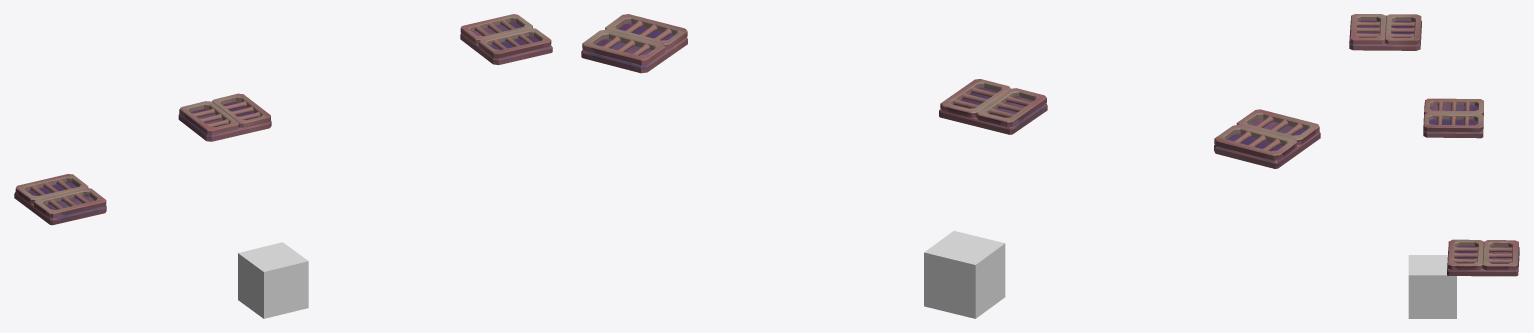
The model's file is battlescence-2-floor004.fbx.
The picture shows the model from 3 angles, left to right: view 1: azimuth 30°, elevation 25°; view 2: azimuth 150°, elevation 25°; view 3: azimuth 270°, elevation 25°; orthographic projection. The views are drawn at different scales.
Visible parts, largest first — view 1: battlescence-2-floor004, Cube.105, Cube.119, Cube.010; view 2: battlescence-2-floor004, Cube.105, Cube.119, Cube.010; view 3: battlescence-2-floor004, Cube.105, Cube.119, Cube.010.
Boxes of the visible parts, <box> form: battlescence-2-floor004: <box>238,242,308,318</box>; Cube.105: <box>460,14,552,64</box>; Cube.119: <box>14,174,106,225</box>; Cube.010: <box>178,93,271,141</box>; battlescence-2-floor004: <box>924,231,1005,318</box>; Cube.105: <box>581,14,687,73</box>; Cube.119: <box>1214,109,1320,168</box>; Cube.010: <box>939,79,1047,134</box>; battlescence-2-floor004: <box>1408,255,1456,318</box>; Cube.105: <box>1447,239,1519,276</box>; Cube.119: <box>1349,14,1421,50</box>; Cube.010: <box>1423,98,1483,138</box>.
Bounding box in the file's own units: 2477 × 822 × 708.
